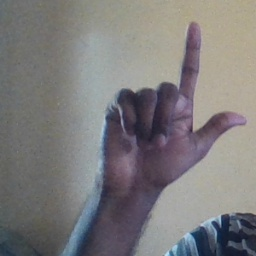L: (88, 18, 251, 194)
